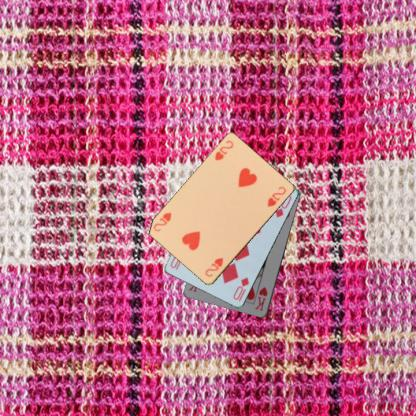10d: (231, 275, 250, 302)
2h: (212, 138, 235, 162), (202, 256, 224, 278)
Kh: (252, 284, 269, 312)
